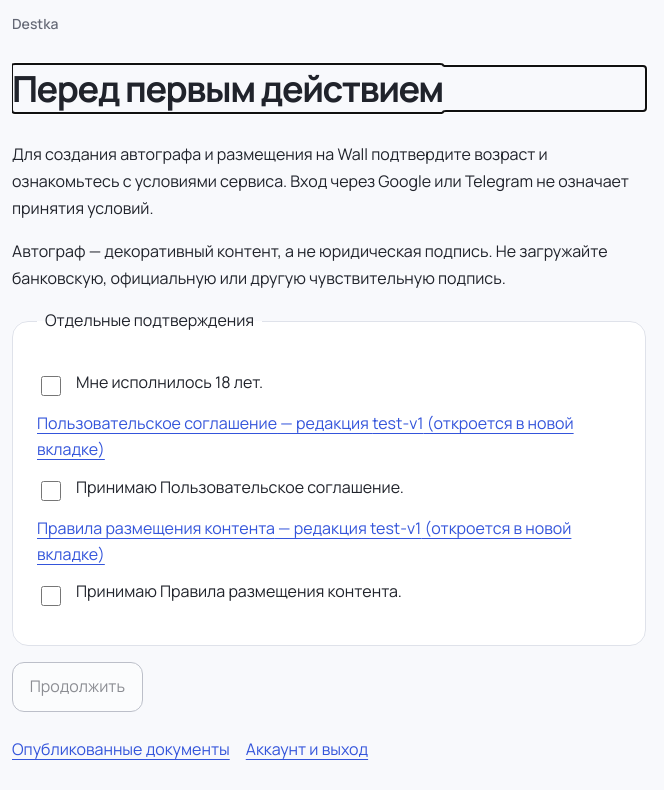
it: stale response resets unseen choices, refreshes identity and focuses the error heading
The image size is (664, 790).
Click the checkbox labelled "Мне исполнилось 18 лет." at [51, 386], box x1=41 y1=376 x2=61 y2=396
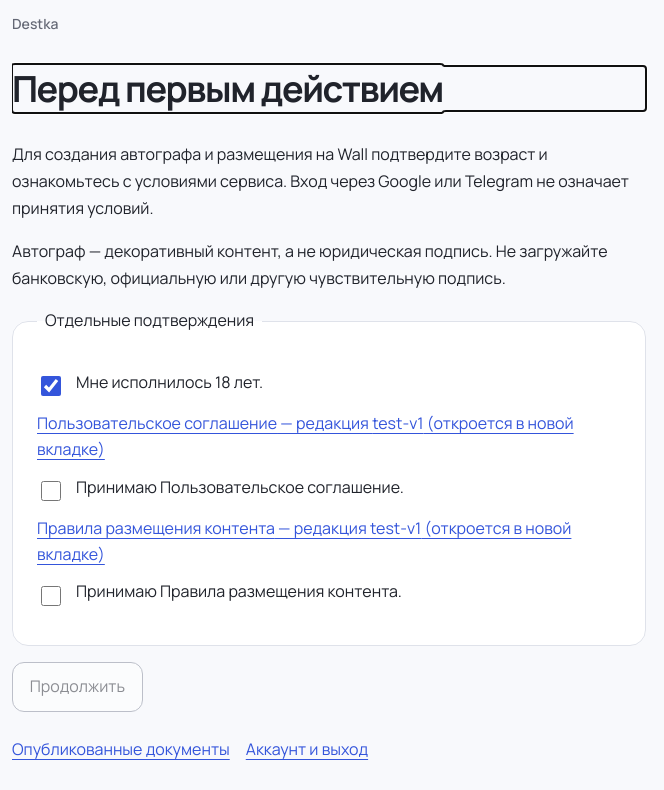
Click the checkbox labelled "Принимаю Пользовательское соглашение." at [51, 491], box x1=41 y1=481 x2=61 y2=501
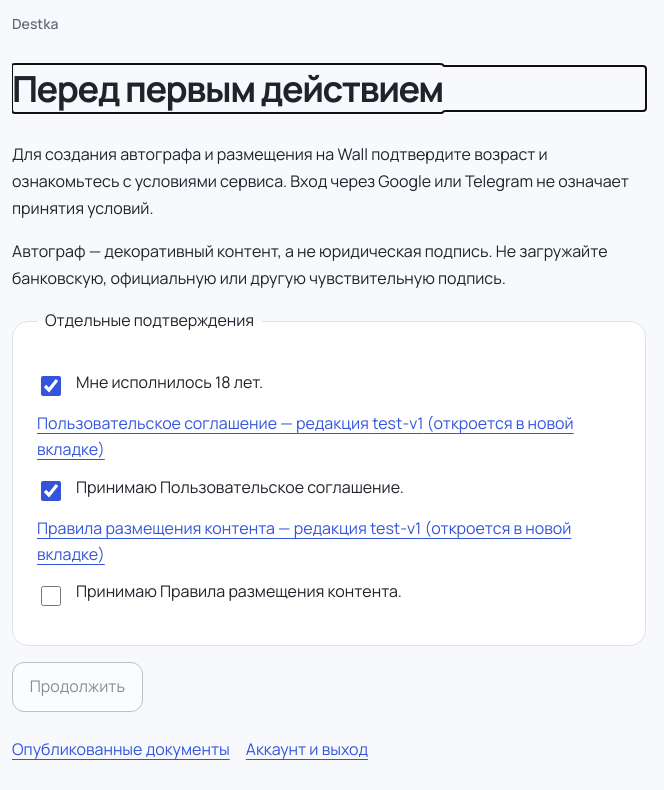
Click the checkbox labelled "Принимаю Правила размещения контента." at [51, 596], box x1=41 y1=586 x2=61 y2=606
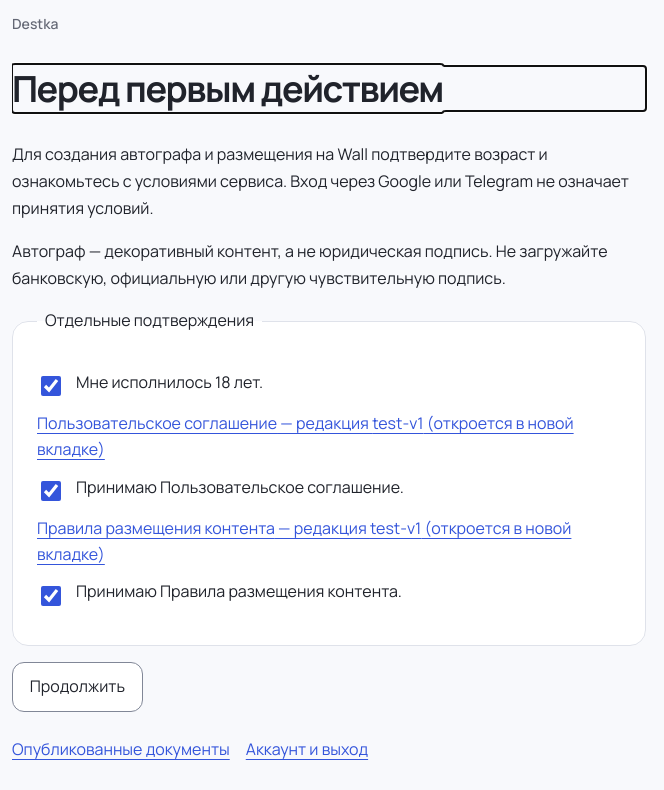
Click the button "Продолжить" at [77, 687], box x1=12 y1=662 x2=143 y2=712
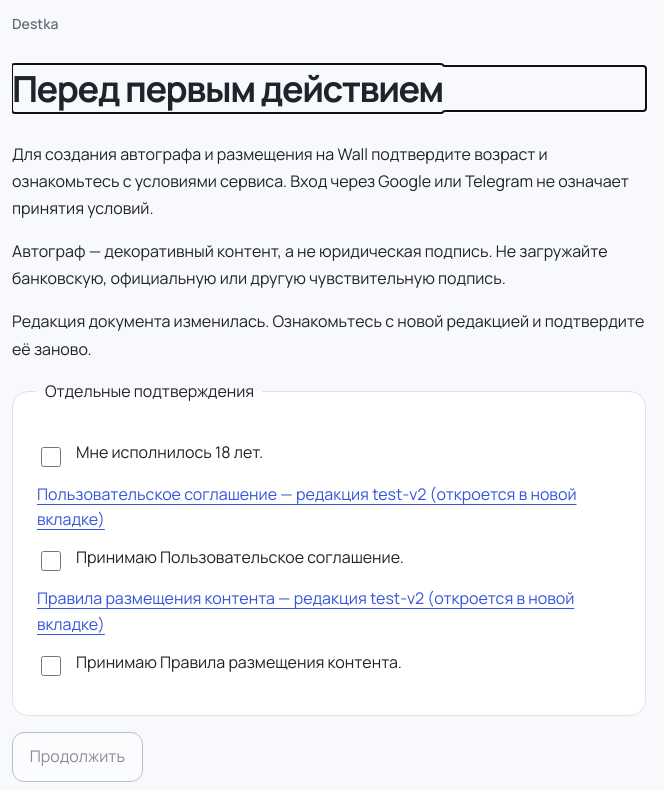
expect the text "Редакция документа изменилась" is shown: met, box x1=12 y1=310 x2=644 y2=360
expect the link "Пользовательское соглашение — редакция test-v2" is shown: met, box x1=37 y1=482 x2=621 y2=533
expect the checkbox labelled "Мне исполнилось 18 лет." is not checked: met, box x1=41 y1=447 x2=61 y2=467
